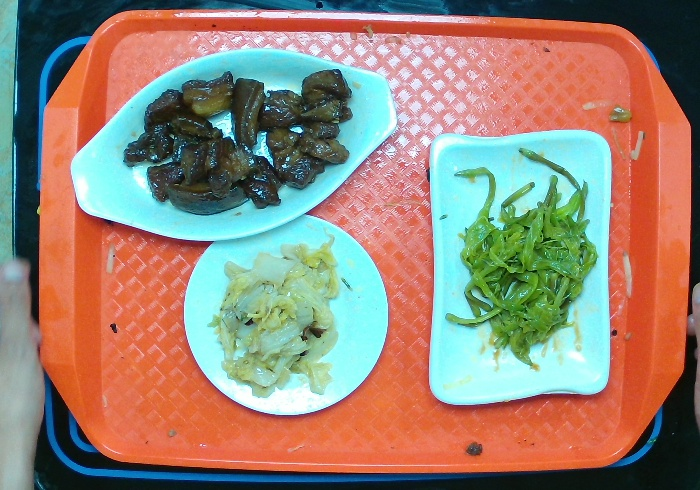RJxy-Si_Fang_Ao_Bian_Wan: (426, 124, 615, 405)
RJxy-Xiao_Yuan_Die: (180, 214, 390, 415)
RJxy-Yu_Pan: (71, 48, 398, 244)
